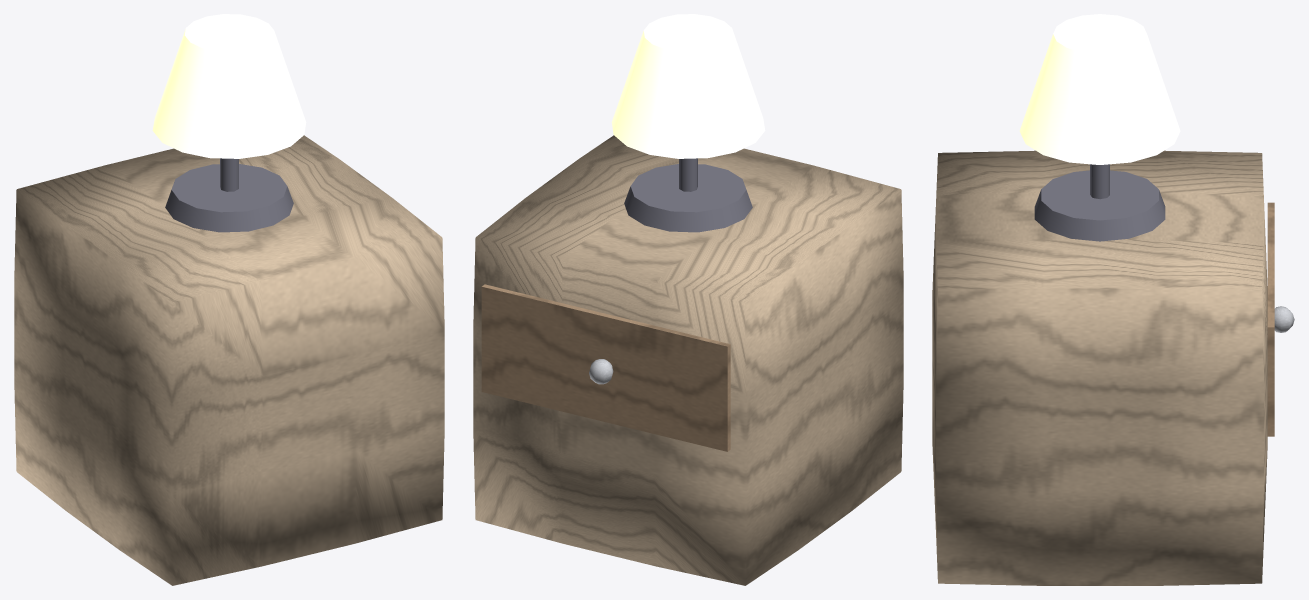
File: nightstand.glb
The picture shows the model from 3 angles, left to right: view 1: azimuth 30°, elevation 25°; view 2: azimuth 150°, elevation 25°; view 3: azimuth 270°, elevation 25°; orthographic projection. The views are drawn at different scales.
Visible parts, largest first — view 1: nightstand_body, Shade; view 2: nightstand_body, Shade; view 3: nightstand_body, Shade.
Boxes of the visible parts, left/top/right/bottom form: nightstand_body: left=14, top=135, right=444, bottom=585; Shade: left=152, top=14, right=306, bottom=158; nightstand_body: left=473, top=135, right=903, bottom=585; Shade: left=611, top=14, right=765, bottom=158; nightstand_body: left=932, top=150, right=1294, bottom=585; Shade: left=1019, top=14, right=1180, bottom=164.
Bounding box in the file's own units: 0.5 × 0.8 × 0.54.
Materials: 5 (3 with a texture image).
